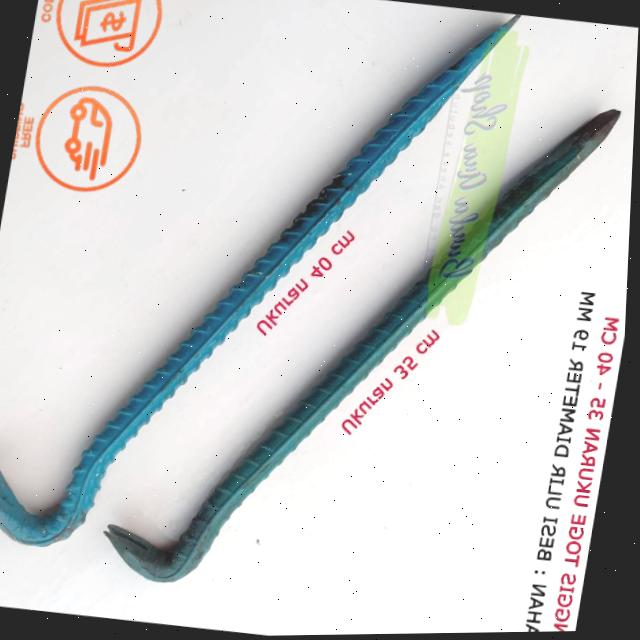crow bar: (0, 13, 525, 550), (99, 88, 627, 597)
